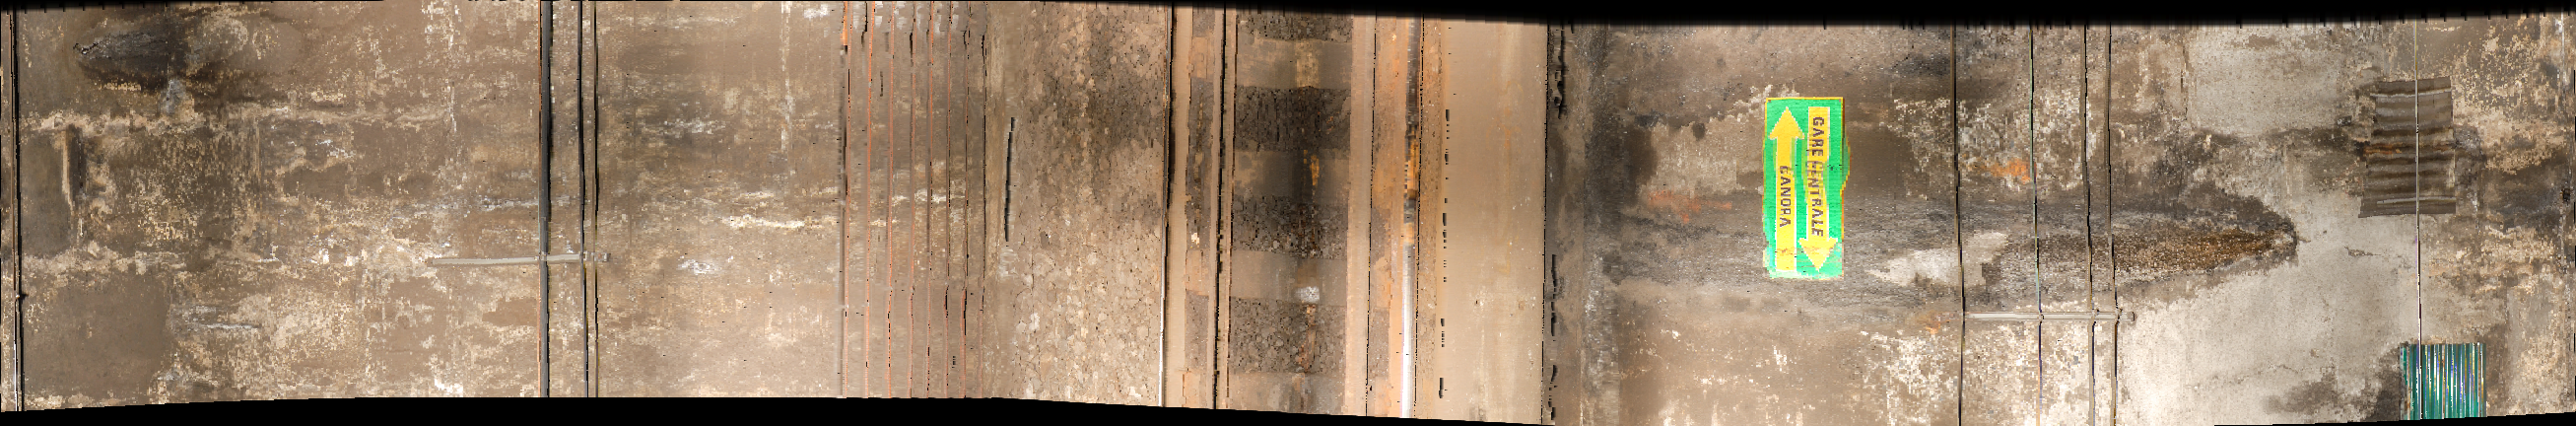green cables: (2407, 345, 2484, 426)
pipes: (833, 10, 1000, 416), (2021, 26, 2126, 426), (534, 2, 605, 410), (1942, 21, 1975, 426)
sign: (1768, 100, 1848, 286)
tracks: (1157, 7, 1437, 426)
